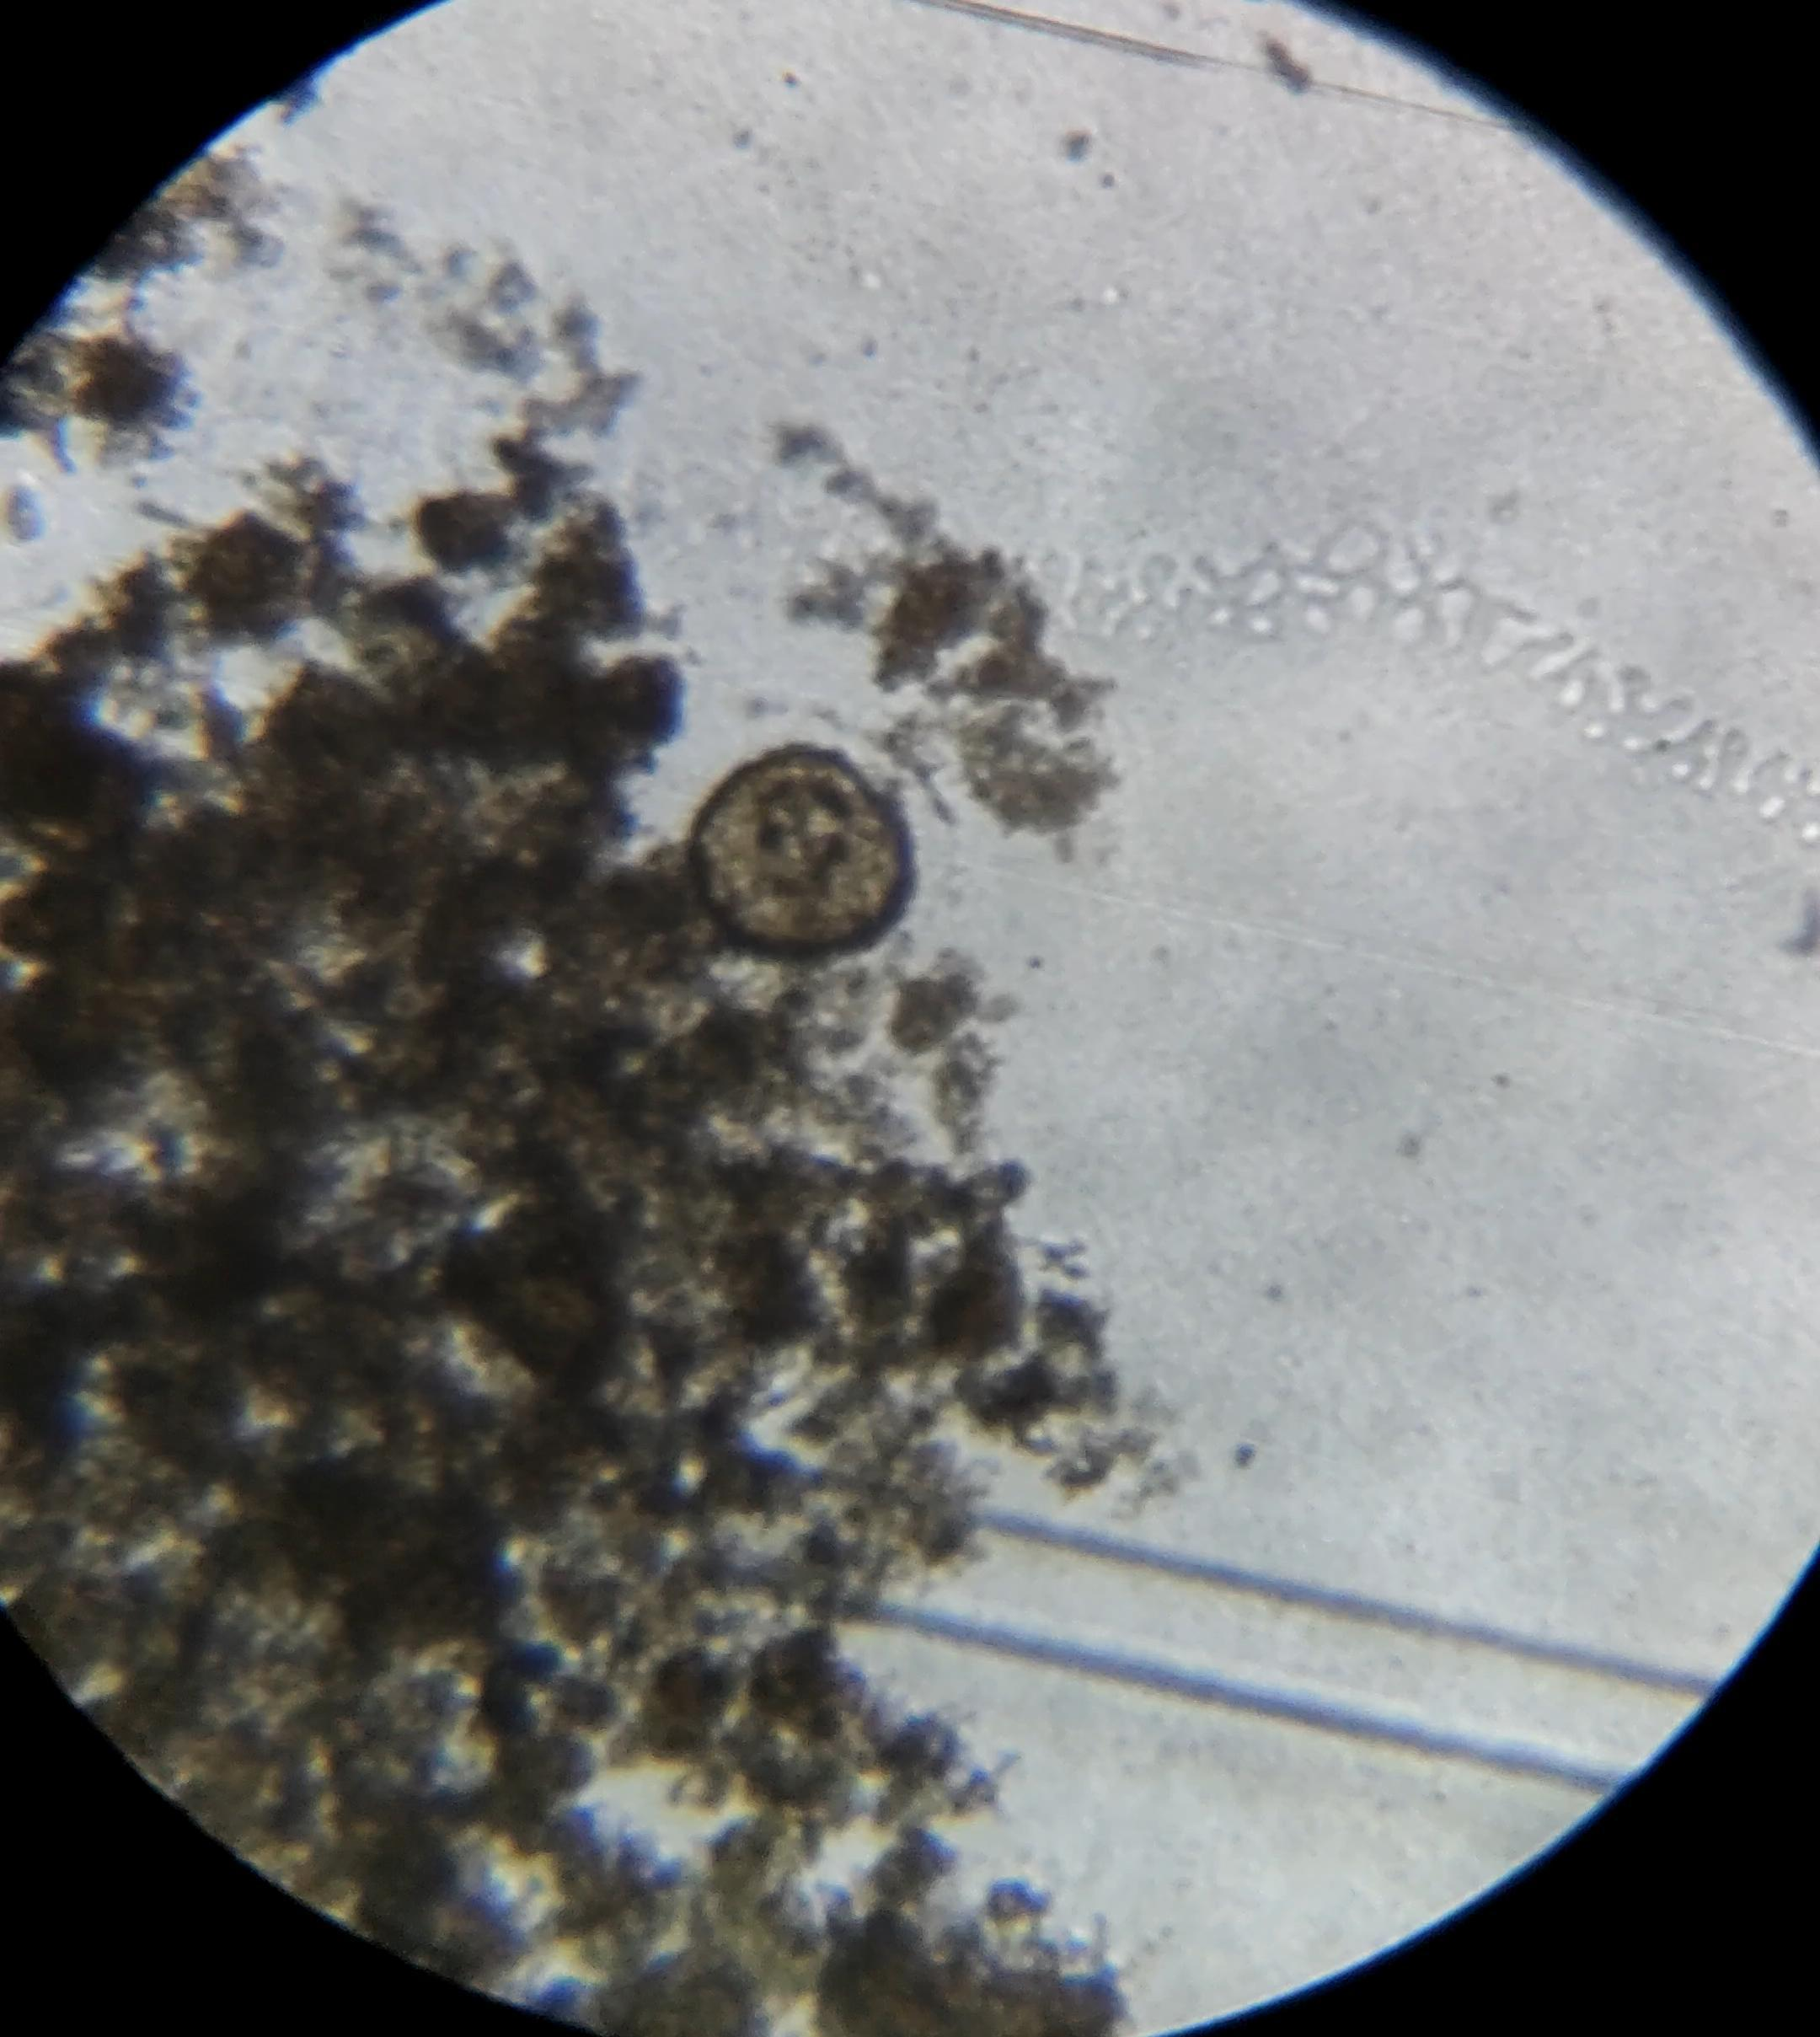Arcella: (696, 749, 905, 958)
